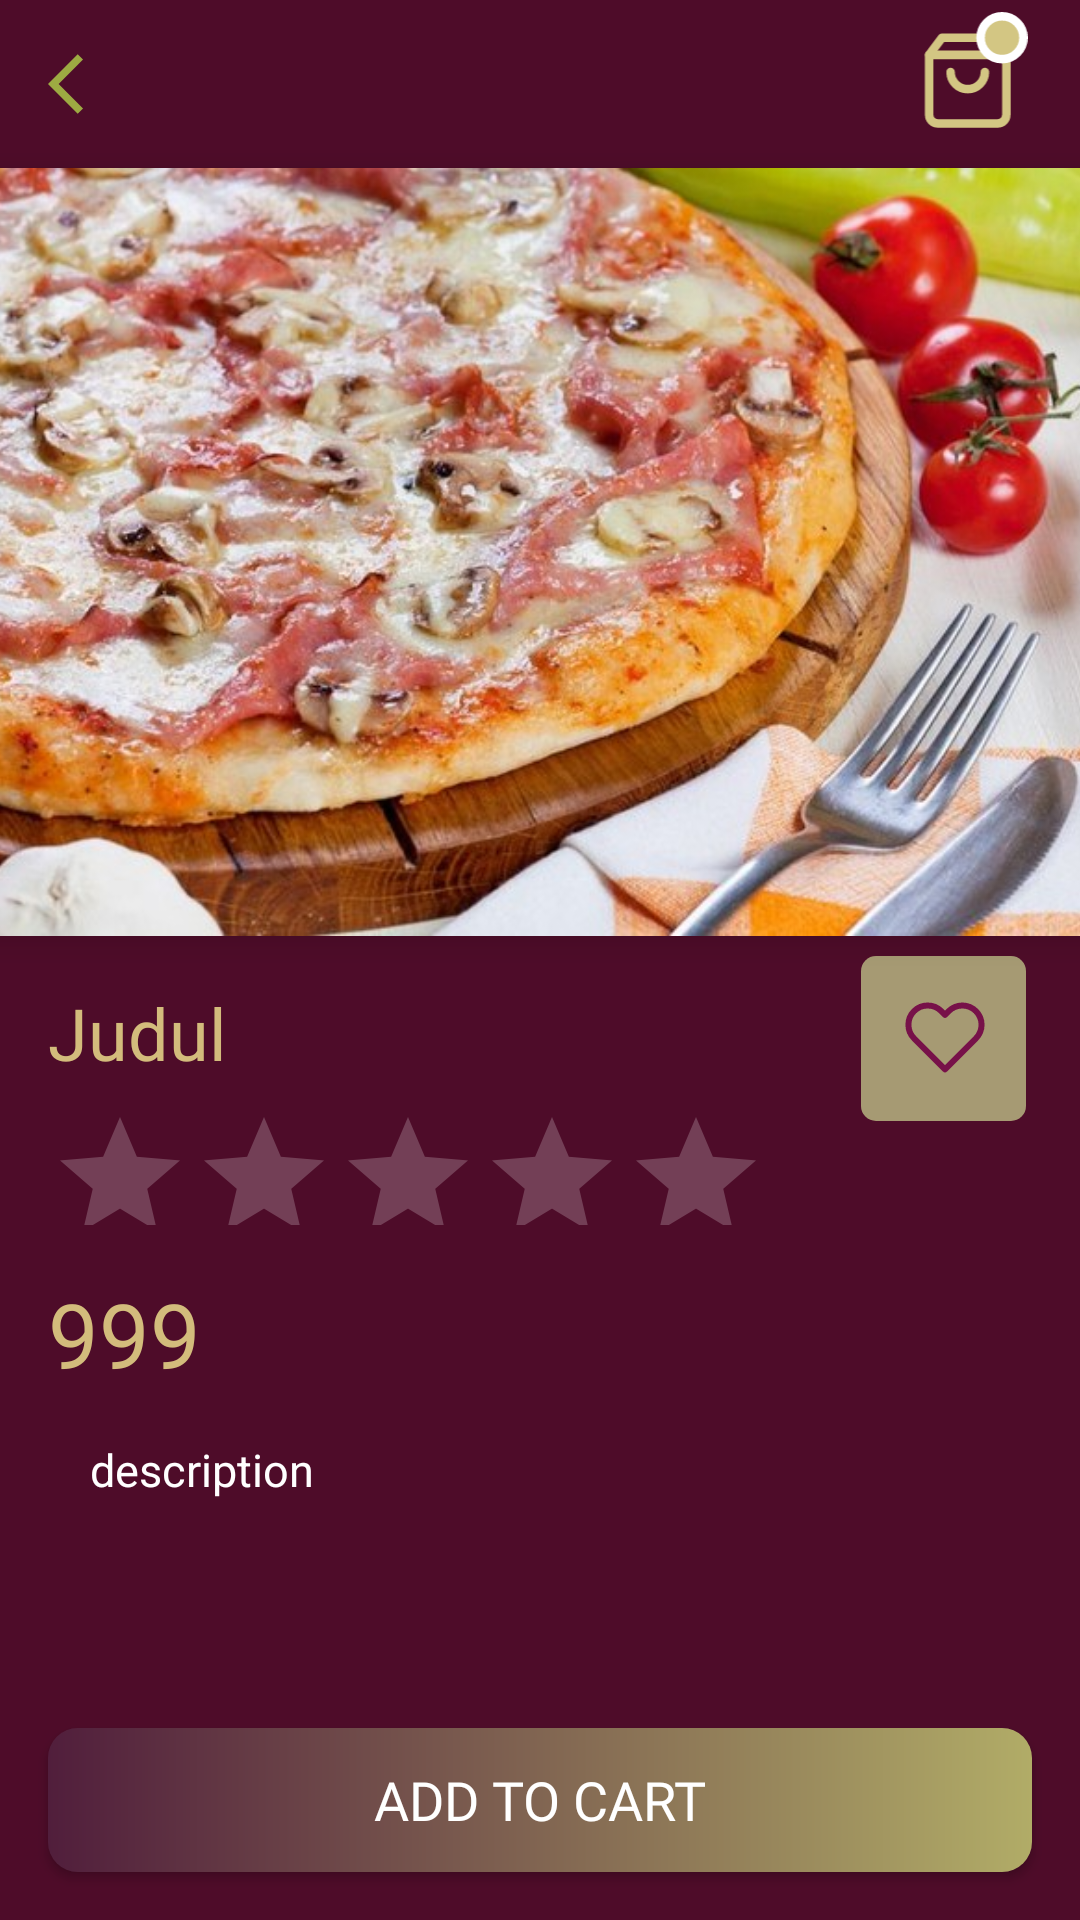

Icons on this 1080×1920 Android screen, each with its box as (x1, y1, x2, y2):
arrow back: (48, 54, 83, 114)
cart: (924, 12, 1028, 128)
like: (861, 956, 1026, 1121)
